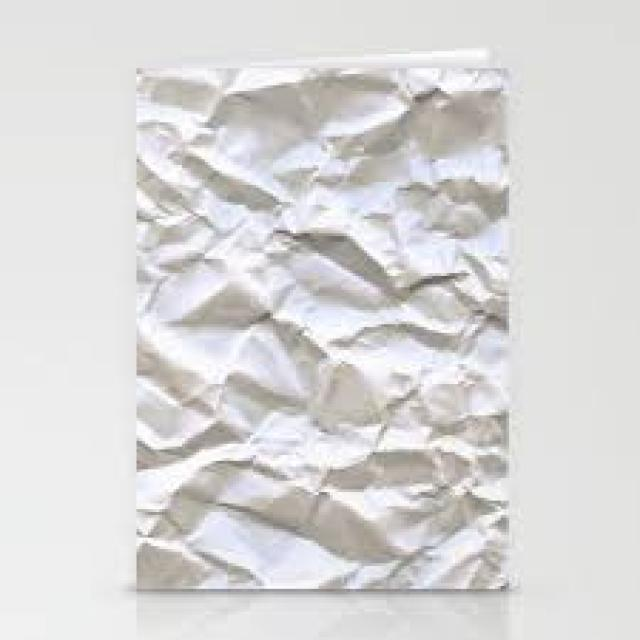paper: (131, 45, 506, 589)
